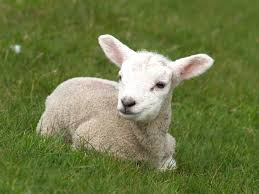koyun: (35, 34, 214, 170)
